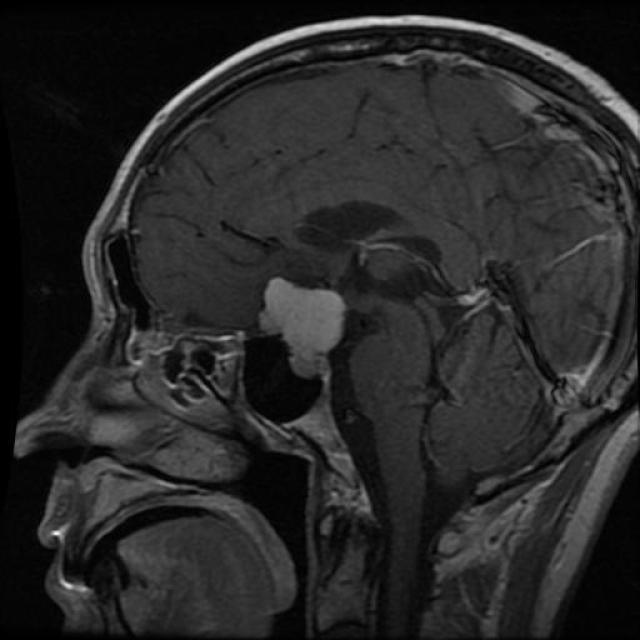meningioma: (260, 278, 342, 381)
